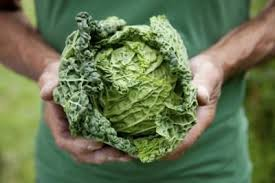cabbage: (67, 24, 204, 148)
